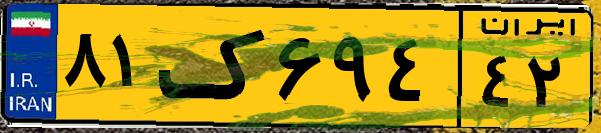1: (110, 28, 158, 98)
2: (525, 38, 570, 115)
4: (385, 28, 445, 110), (475, 38, 525, 113)
6: (270, 28, 330, 110)
8: (57, 26, 110, 100)
9: (330, 28, 385, 110)
ک: (158, 12, 270, 120)
